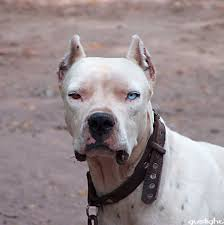dog: (53, 30, 224, 219)
